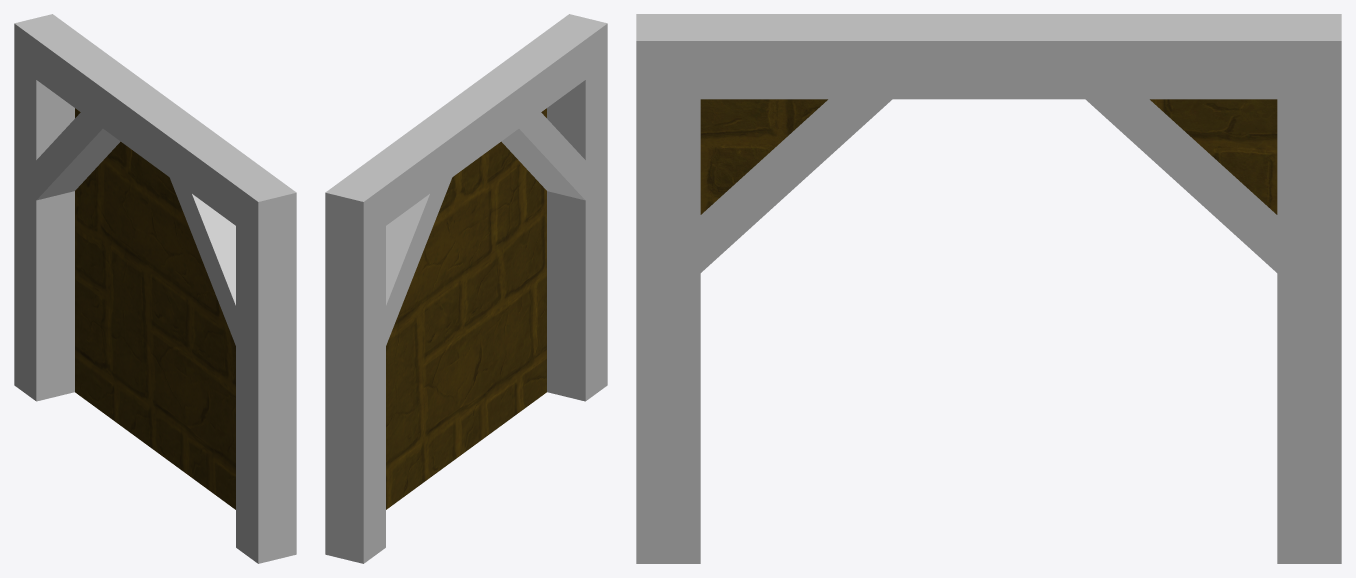
Rendered from WallSupport.fbx.
3 views of the same model, side by side, from view 1: azimuth 30°, elevation 25°; view 2: azimuth 150°, elevation 25°; view 3: azimuth 270°, elevation 25° (orthographic). The views are drawn at different scales.
Visible parts, largest first — view 1: WallSupport; view 2: WallSupport; view 3: WallSupport.
Boxes of the visible parts, x1,y1,x2,y2 form: WallSupport: (14,14,296,563); WallSupport: (325,14,607,563); WallSupport: (636,14,1341,563).
Bounding box in the file's own units: 1 × 9 × 11.
